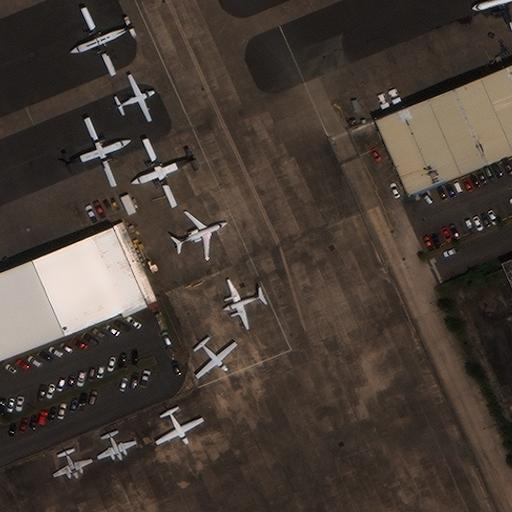Medium Civil Transport: (65, 116, 130, 185), (131, 139, 194, 208), (69, 9, 132, 75), (175, 210, 226, 259), (222, 279, 263, 329), (116, 72, 154, 120), (157, 410, 204, 444), (198, 341, 237, 378), (470, 0, 512, 31)
Small Civil Transport: (53, 450, 92, 478), (98, 431, 136, 459)
